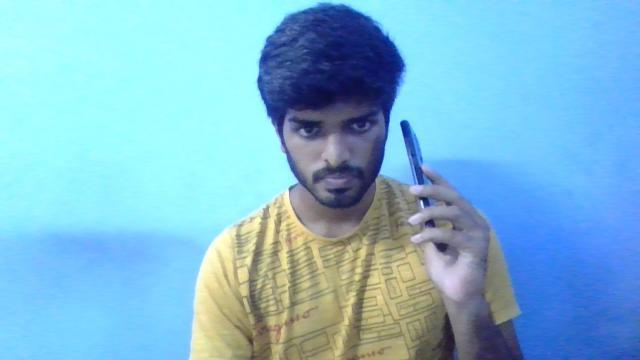PhoneUse: (399, 117, 449, 256)
SafeDriving: (338, 101, 383, 137), (284, 107, 332, 140)
